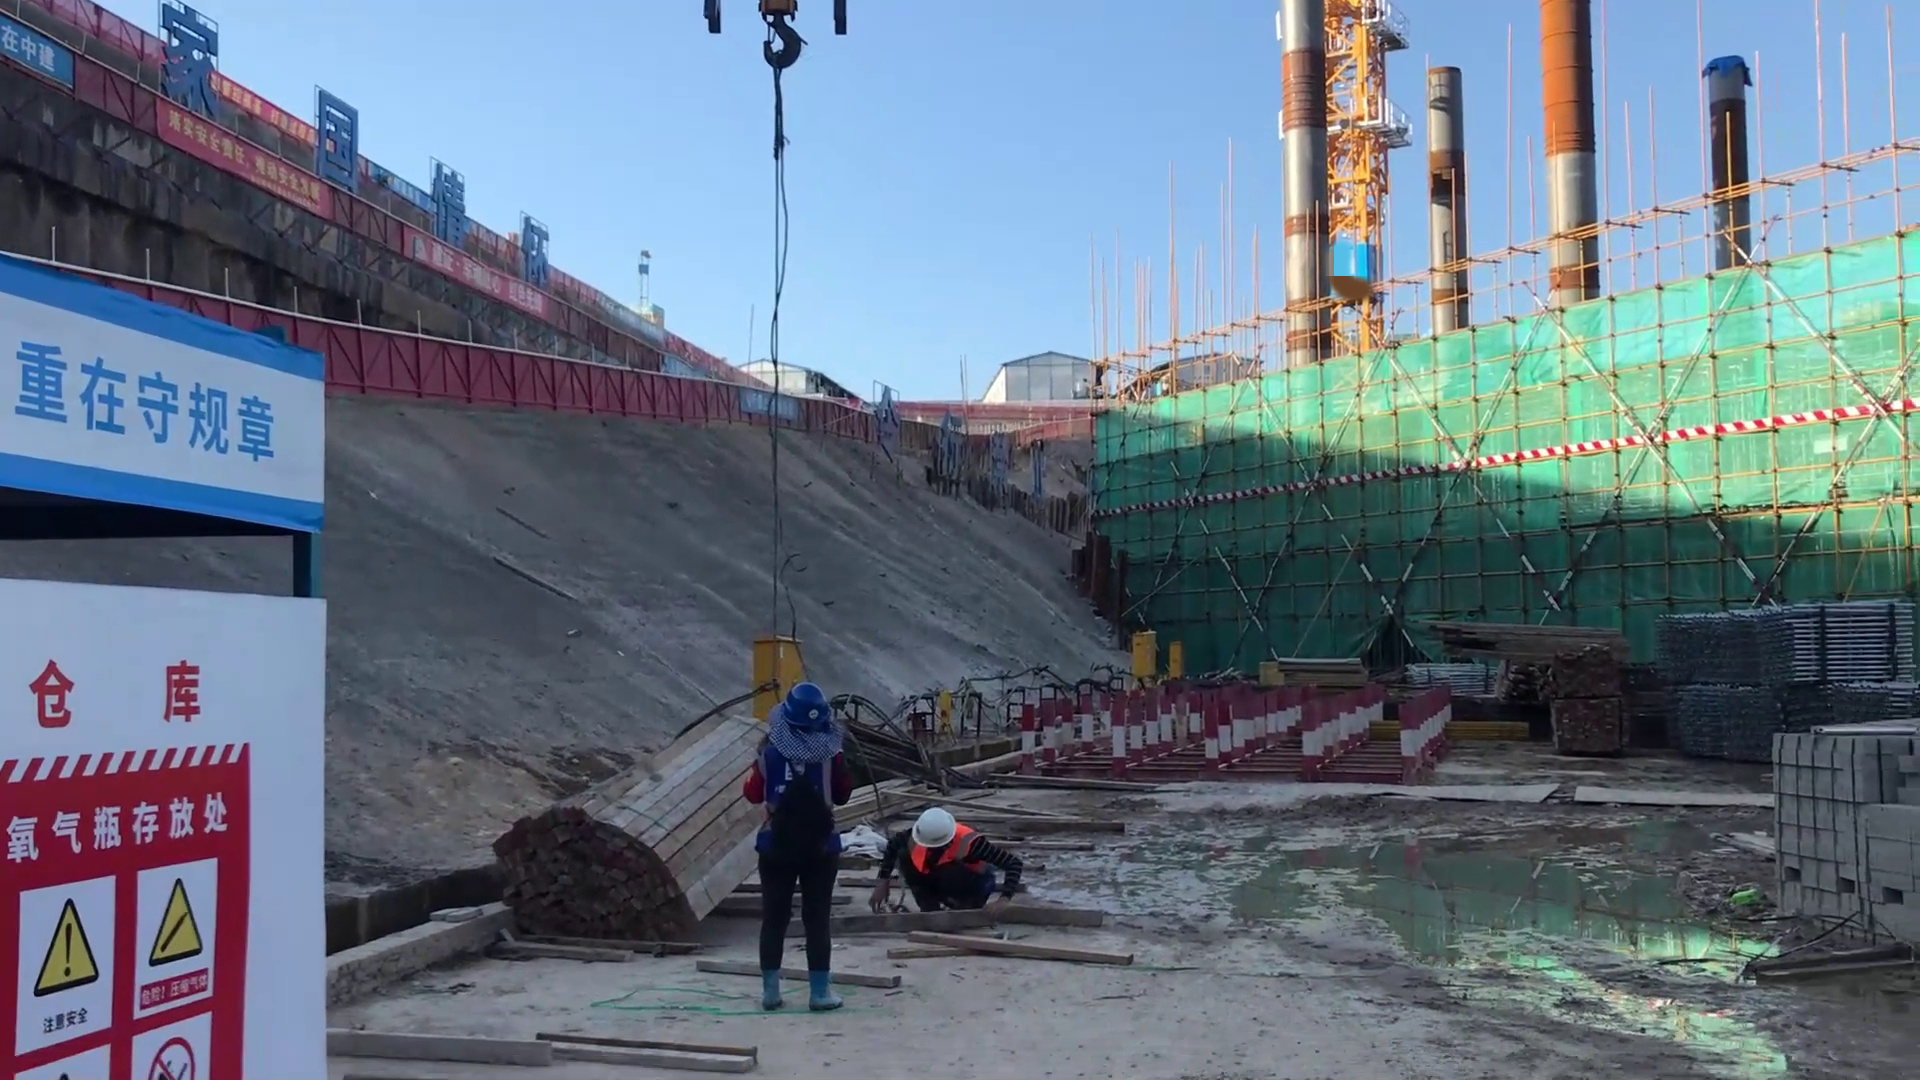brick: (1760, 731, 1912, 955)
ebox: (732, 616, 803, 711), (1123, 627, 1157, 673), (1165, 635, 1180, 675)
fence: (326, 315, 711, 430), (711, 379, 889, 439)
helmet: (760, 676, 834, 764), (918, 797, 954, 851)
person: (745, 675, 851, 1015), (867, 799, 1026, 923)
scaffold: (1648, 604, 1920, 705), (1676, 680, 1766, 757)
slogan: (10, 772, 245, 1080), (1, 326, 303, 511), (159, 112, 345, 241)
vest: (905, 839, 982, 898)
wood: (469, 711, 733, 953), (1423, 612, 1628, 682)
